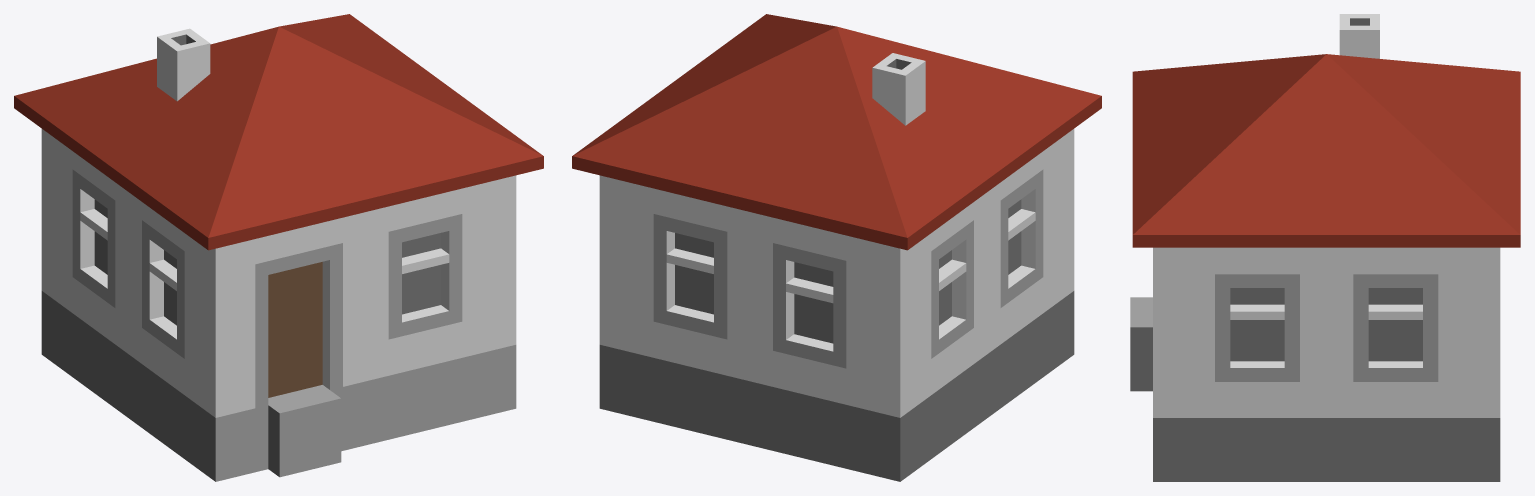
File: house_03.glb
3 views of the same model, side by side, from view 1: azimuth 30°, elevation 25°; view 2: azimuth 150°, elevation 25°; view 3: azimuth 270°, elevation 25° (orthographic).
Parts seen in each view (by area): view 1: house_03; view 2: house_03; view 3: house_03.
Boxes of the visible parts, bbox=[...] form: house_03: bbox=[14, 14, 543, 481]; house_03: bbox=[572, 14, 1101, 481]; house_03: bbox=[1130, 14, 1520, 481].
Bounding box in the file's own units: 1.97 × 1.99 × 1.99.
